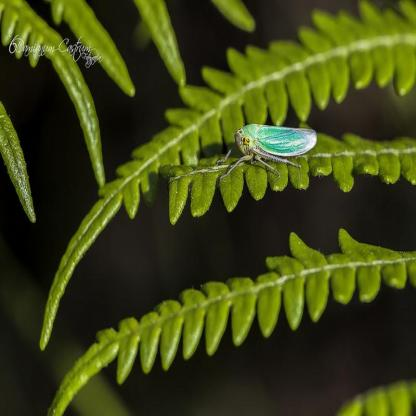Green-Leafhopper: (215, 119, 320, 171)
